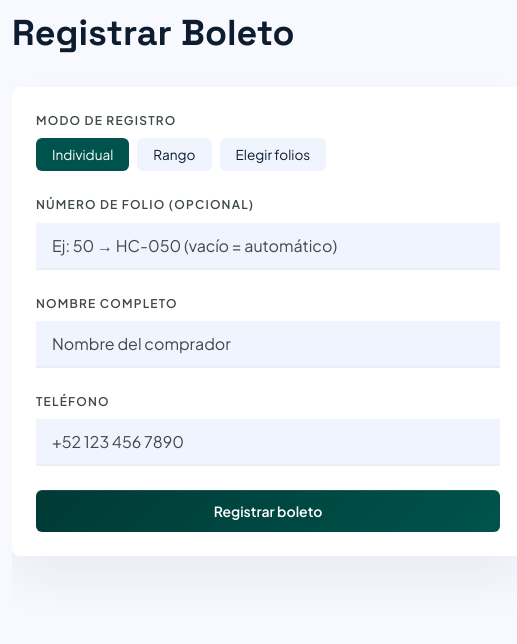
Test: TicketNewPage › shows validation error from API
The width and height of the screenshot is (517, 644).
Type "x" into the field labelled "Nombre completo". click: [268, 344]
box: [36,321,500,368]
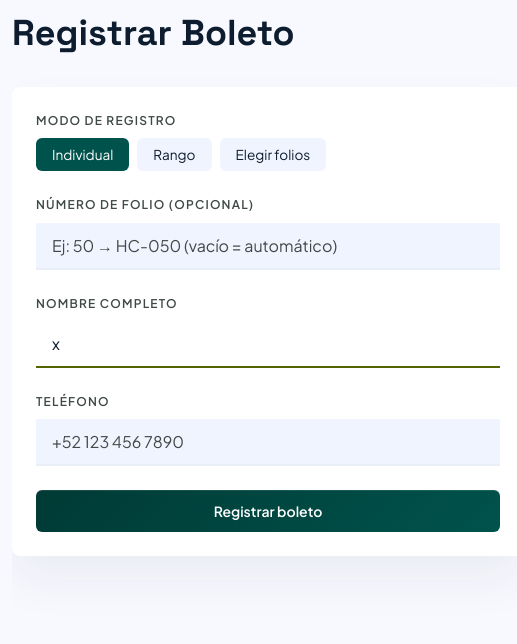
Type "123" into the field labelled "Teléfono". click: [268, 442]
box: [36,419,500,466]
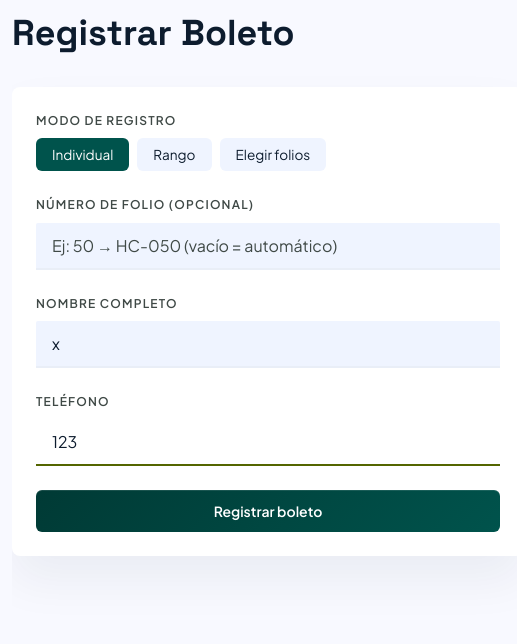
Click the button "Registrar boleto". click: [268, 511]
box: [36,490,500,532]
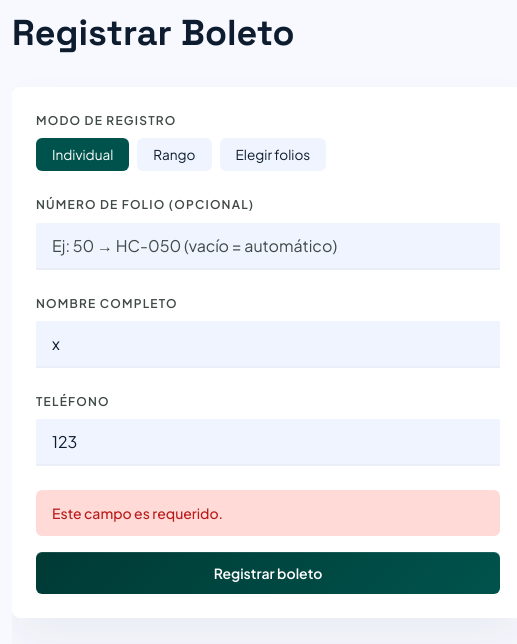
Result: the message shows "Este campo es requerido" at [52,504,223,522]
